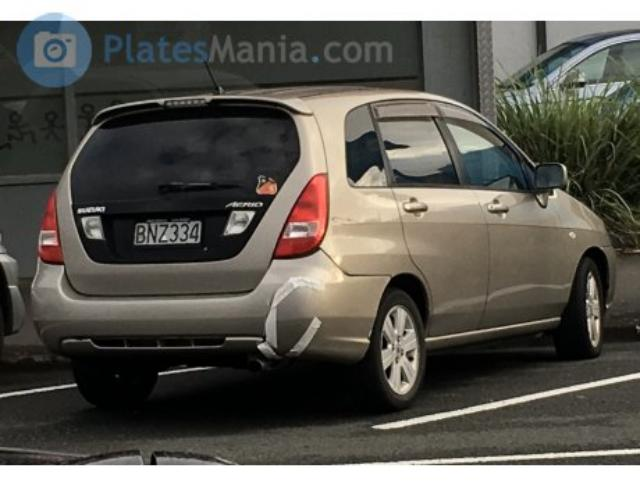Rego: (133, 219, 203, 247)
